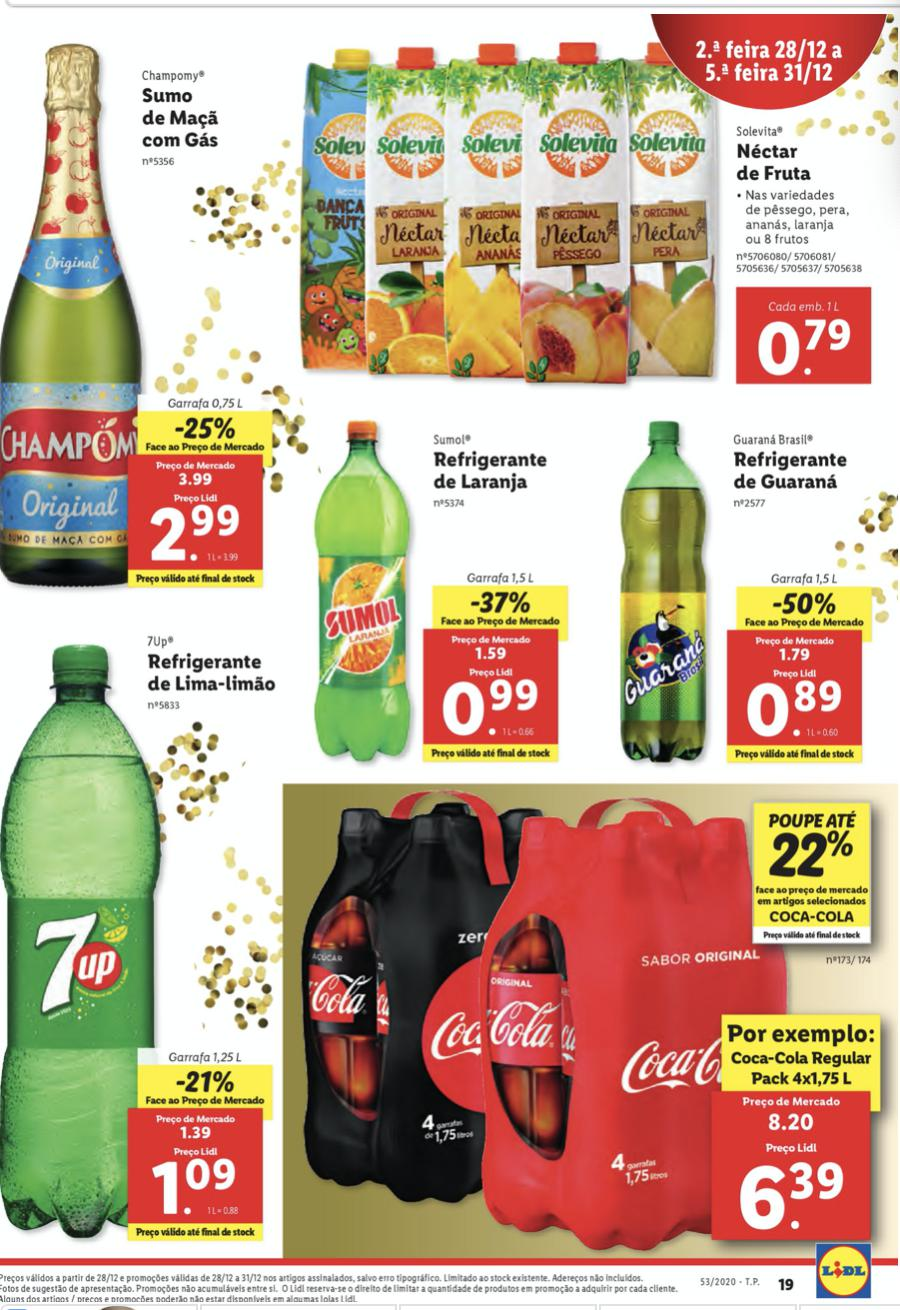name: (135, 647, 277, 702), (138, 86, 232, 155), (424, 445, 554, 494), (725, 449, 858, 495), (734, 137, 821, 192)
price: (735, 1139, 848, 1239), (142, 484, 251, 571), (753, 294, 859, 381), (438, 663, 550, 742), (740, 665, 851, 744), (150, 1142, 248, 1224)
product: (295, 787, 888, 1247), (275, 50, 892, 387), (1, 620, 298, 1257), (1, 29, 282, 605), (593, 387, 892, 768), (311, 408, 593, 768)
promotion: (766, 828, 854, 886), (169, 412, 243, 442), (167, 1066, 237, 1097), (769, 591, 842, 620), (467, 586, 534, 616)
